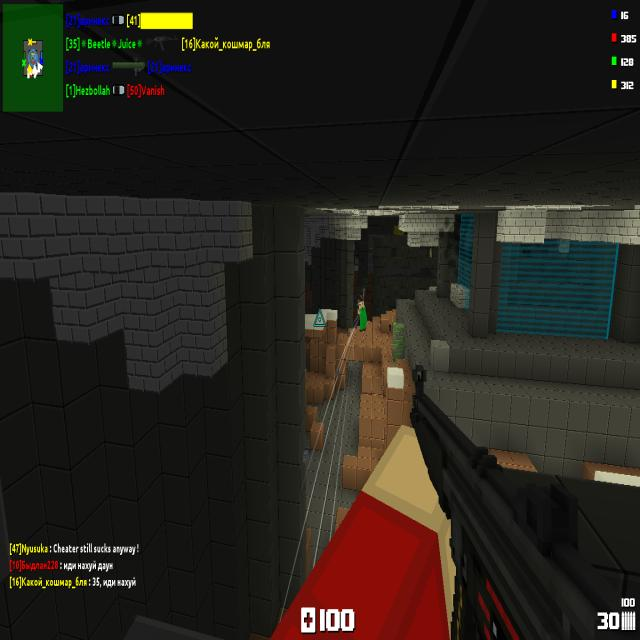enemy: (357, 300, 367, 332)
